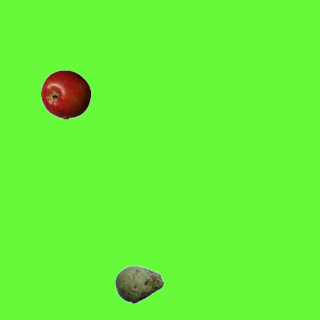Apple Braeburn: (40, 69, 90, 119)
Pear Stone: (114, 259, 164, 309)
